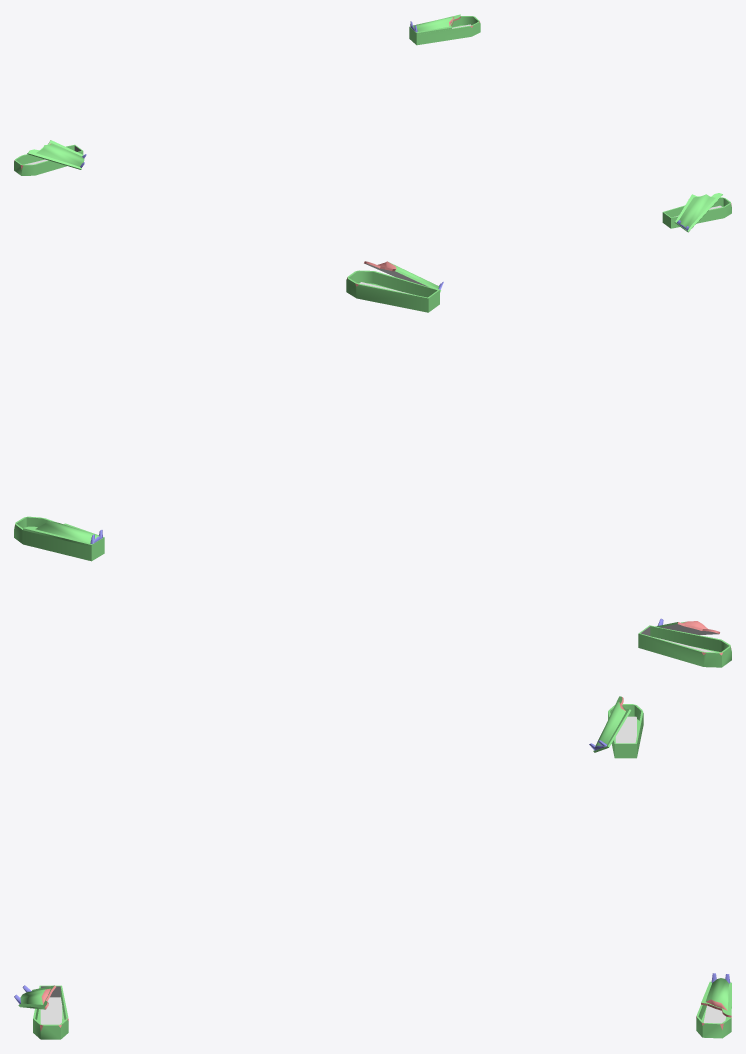
Rendered from SSQ_coffin_Bset02.gltf.
3 views of the same model, one above another, from view 1: azimuth 30°, elevation 25°; view 2: azimuth 150°, elevation 25°; view 3: azimuth 270°, elevation 25° (orthographic). The views are drawn at different scales.
Parts seen in each view (by area): view 1: SSQ_coffin_Bset02; view 2: SSQ_coffin_Bset02; view 3: SSQ_coffin_Bset02.
Part boxes in pixels (x1,y1,x2,y2): SSQ_coffin_Bset02: (14, 14, 731, 232); SSQ_coffin_Bset02: (14, 261, 731, 667); SSQ_coffin_Bset02: (14, 696, 731, 1039).
Bounding box in the file's own units: 5.19 × 0.2507 × 4.9.
